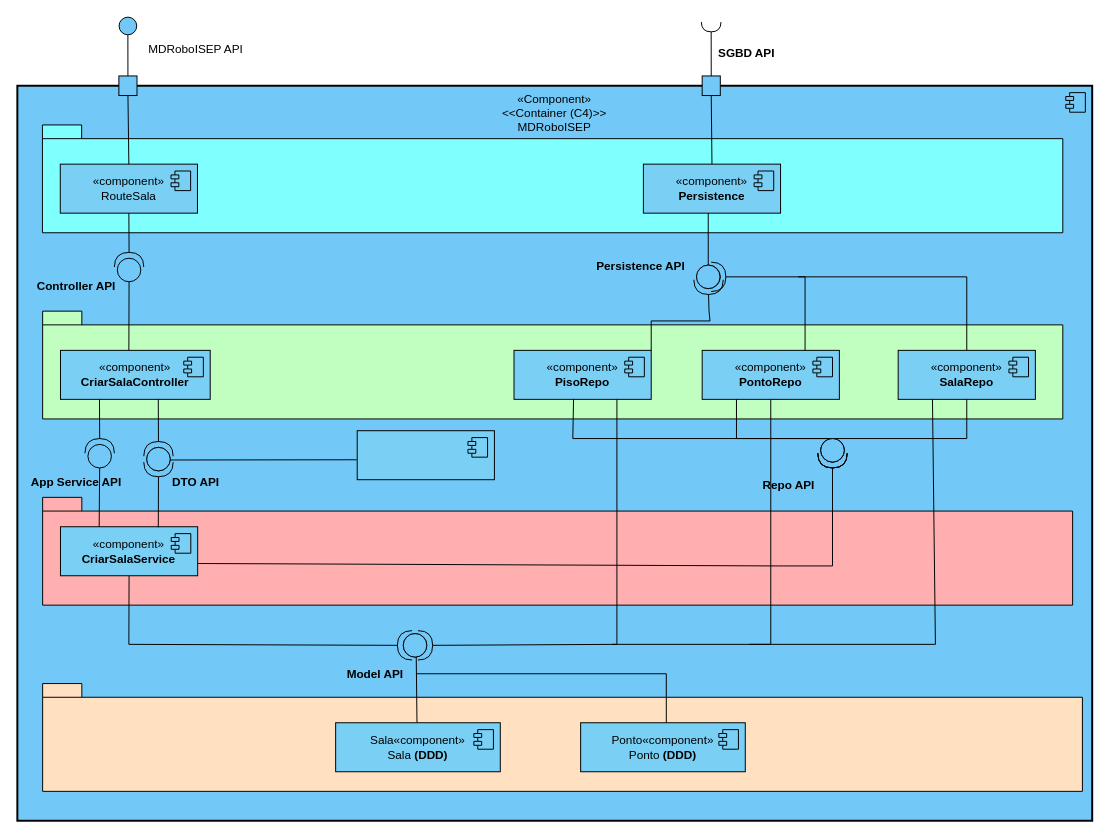
Image size: 1110x839. Some labels were removed from this diagram. Each missing label, with the box of its shape:
Application Business Rules: (42, 496, 1073, 605)
Enterprise Business Rules: (42, 683, 1082, 791)
Frameworks and Drivers Layer: (41, 124, 1063, 233)
Interface Adapters Layer: (42, 310, 1063, 419)
«component» PassagemDTO: (356, 430, 494, 480)
